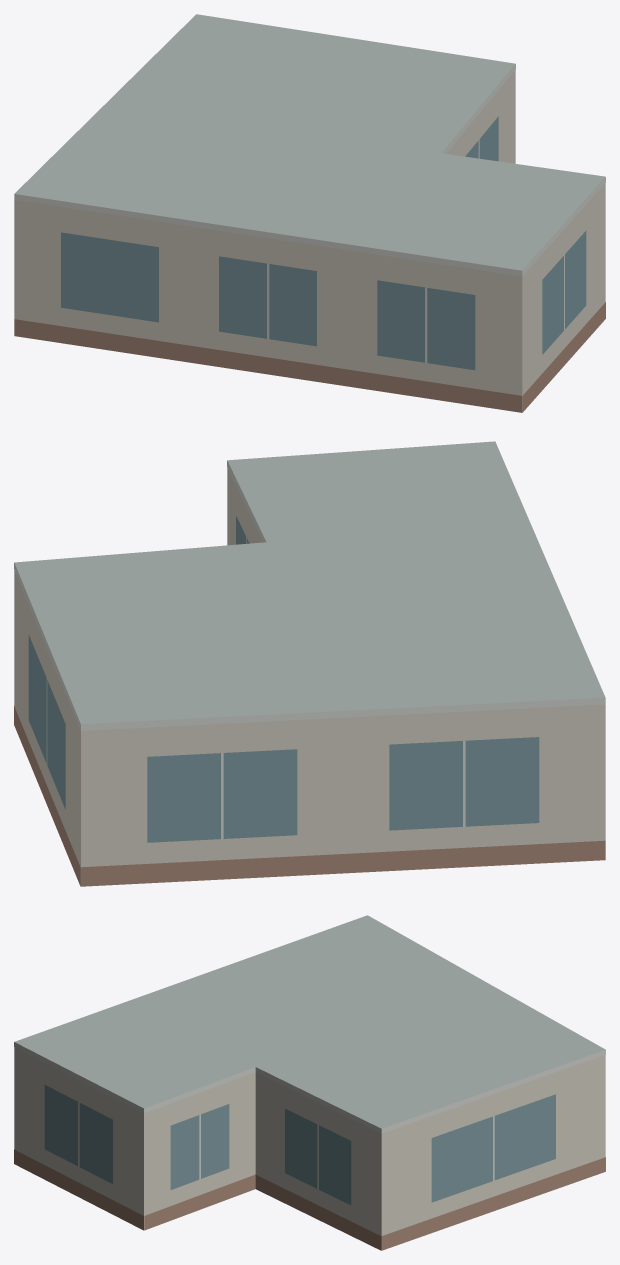
File: survey-upis-32958709.glb
3 renders of one model, top to bottom at view 1: azimuth 30°, elevation 25°; view 2: azimuth 150°, elevation 25°; view 3: azimuth 270°, elevation 25°, orthographic. The views are drawn at different scales.
Parts seen in each view (by area): view 1: survey-upis-32958709.tmp; view 2: survey-upis-32958709.tmp; view 3: survey-upis-32958709.tmp.
Part boxes in pixels (x1,y1,x2,y2): survey-upis-32958709.tmp: [14, 14, 605, 412]; survey-upis-32958709.tmp: [14, 441, 605, 886]; survey-upis-32958709.tmp: [14, 915, 605, 1250].
Size of the model in its own units: 11.45 by 3.05 by 13.41.
